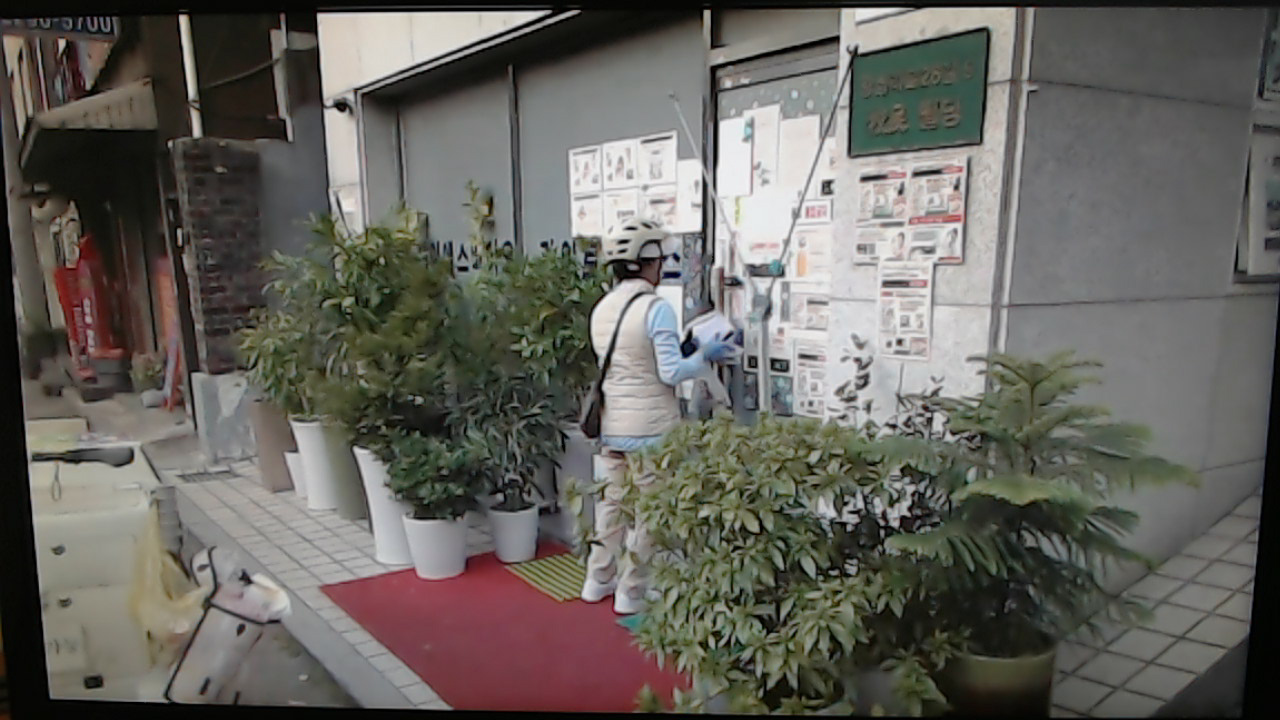Yakurut: (524, 218, 746, 636)
